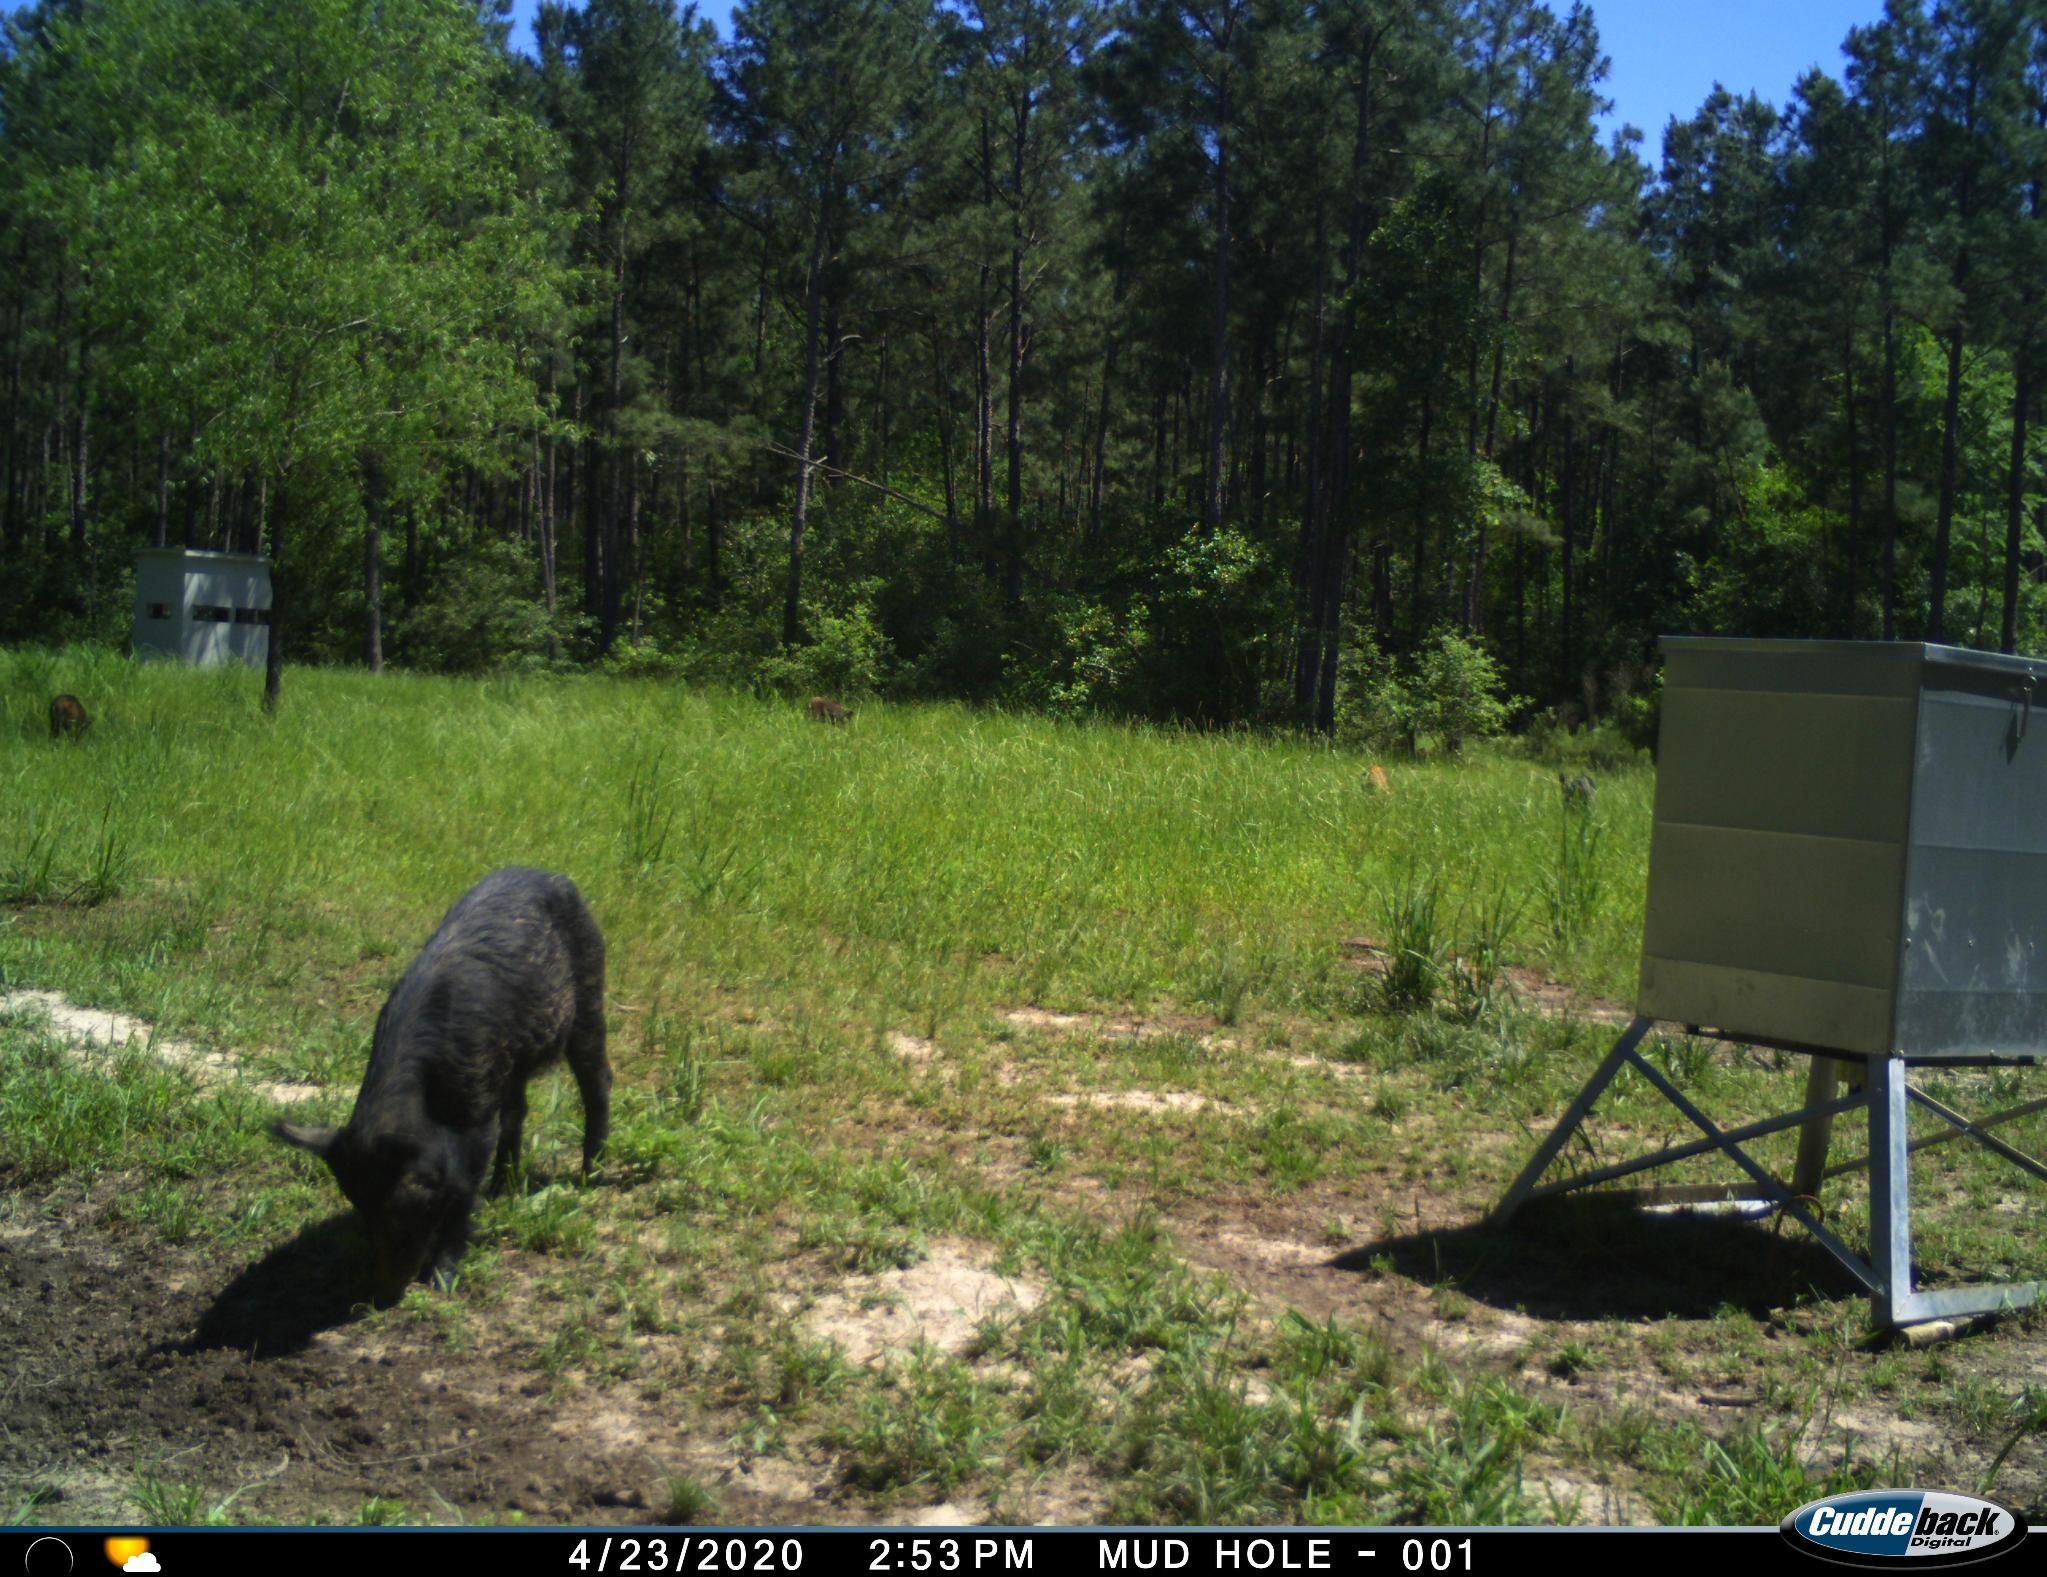Hog: (278, 856, 623, 1256), (35, 681, 104, 747), (1550, 757, 1605, 840), (798, 681, 855, 734), (1353, 754, 1396, 805)
